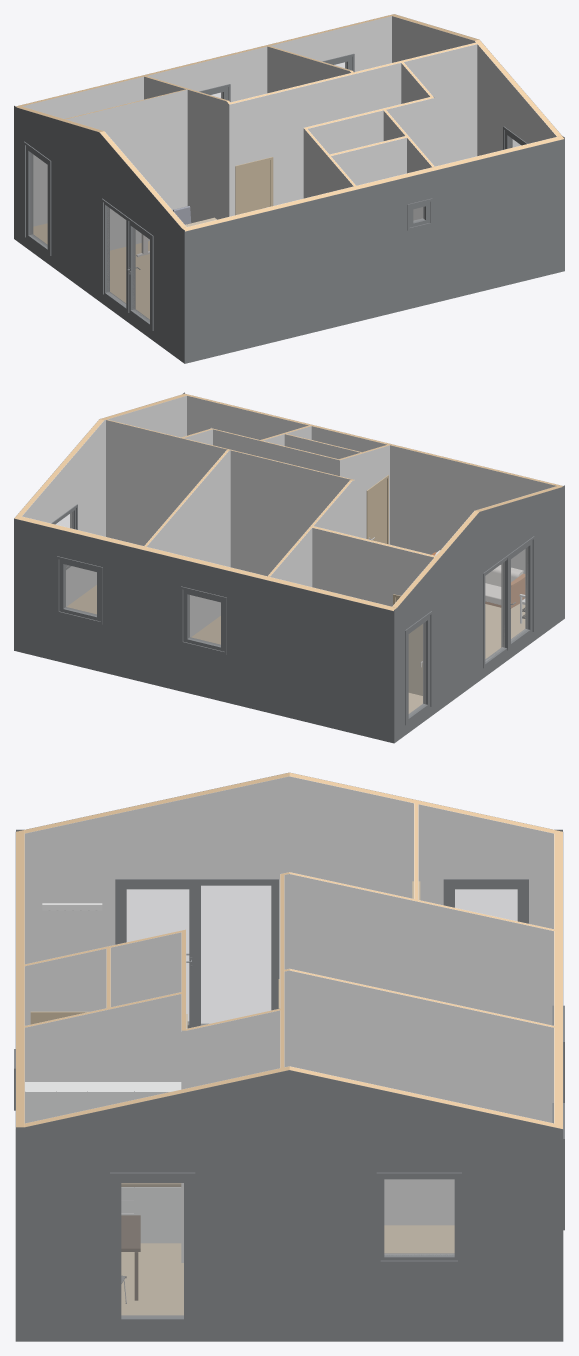
The picture shows the model from 3 angles, top to bottom: view 1: azimuth 30°, elevation 25°; view 2: azimuth 150°, elevation 25°; view 3: azimuth 270°, elevation 25°; orthographic projection. The views are drawn at different scales.
Parts seen in each view (by area): view 1: IfcWall/Part:2905459, IfcWall/Part:2905450, IfcWall/Part:2948545, IfcWall/Part:2905452, IfcWall/Part:2905421, IfcWall/Part:2905455, IfcWall/Part:2948544, IfcWall/Part:2936510, IfcWindow/Langai (Akrusta):1000x2100x120:2818375, IfcWindow/Langai (Akrusta):1000x2100x120 (dešininis):2947001, IfcDoor/Durys išorinės:1000x2100x120 (dešininės):2906808, IfcWall/Part:2927378 (+15 smaller); view 2: IfcWall/Part:2905453, IfcWall/Part:2905450, IfcWall/Part:2905458, IfcWall/Part:2948542, IfcWall/Part:2948543, IfcWall/Part:2905455, IfcWall/Part:2905420, IfcWall/Part:2914524, IfcWindow/Langai (Akrusta):1000x1200x120 (dešininis):2947919, IfcWindow/Langai (Akrusta):1000x1200x120 (dešininis):2947860, IfcWindow/Langai (Akrusta):1000x2100x120 (dešininis):2947001, IfcDoor/Durys išorinės:1000x2100x120 (dešininės):2906808 (+14 smaller); view 3: IfcWall/Part:2905456, IfcWall/Part:2905449, IfcWall/Part:2914523, IfcWall/Part:2910315, IfcWindow/Langai (Akrusta):1000x2100x120 (dešininis):2948181, IfcWindow/Langai (Akrusta):1000x2100x120:2818375, IfcWall/Part:2927374, IfcWindow/Langai (Akrusta):1000x1200x120:2907726, IfcSlab/Part:2905462, IfcWall/Part:2948548, IfcDoor/Durys išorinės:1000x2100x120 (dešininės):2906808, IfcWall/Part:2948555 (+12 smaller).
Boxes of the visible parts, x1,y1,x2,y2 form: IfcWall/Part:2905459: [184, 139, 564, 363]; IfcWall/Part:2905450: [14, 105, 184, 363]; IfcWall/Part:2948545: [229, 63, 401, 216]; IfcWall/Part:2905452: [22, 16, 391, 226]; IfcWall/Part:2905421: [66, 89, 187, 250]; IfcWall/Part:2905455: [392, 16, 556, 155]; IfcWall/Part:2948544: [404, 44, 477, 166]; IfcWall/Part:2936510: [187, 90, 229, 223]; IfcWindow/Langai (Akrusta):1000x2100x120:2818375: [101, 198, 129, 312]; IfcWindow/Langai (Akrusta):1000x2100x120 (dešininis):2947001: [24, 141, 51, 255]; IfcDoor/Durys išorinės:1000x2100x120 (dešininės):2906808: [126, 217, 153, 330]; IfcWall/Part:2927378: [331, 137, 406, 185]; IfcWall/Part:2905453: [14, 518, 394, 743]; IfcWall/Part:2905450: [394, 485, 564, 742]; IfcWall/Part:2905458: [187, 395, 556, 573]; IfcWall/Part:2948542: [106, 420, 227, 545]; IfcWall/Part:2948543: [230, 450, 350, 576]; IfcWall/Part:2905455: [22, 395, 186, 606]; IfcWall/Part:2905420: [312, 527, 433, 606]; IfcWall/Part:2914524: [146, 450, 230, 637]; IfcWindow/Langai (Akrusta):1000x1200x120 (dešininis):2947919: [56, 556, 102, 624]; IfcWindow/Langai (Akrusta):1000x1200x120 (dešininis):2947860: [180, 586, 226, 654]; IfcWindow/Langai (Akrusta):1000x2100x120 (dešininis):2947001: [405, 611, 432, 725]; IfcDoor/Durys išorinės:1000x2100x120 (dešininės):2906808: [501, 536, 534, 650]; IfcWall/Part:2905456: [16, 1070, 563, 1341]; IfcWall/Part:2905449: [25, 776, 553, 978]; IfcWall/Part:2914523: [284, 970, 553, 1225]; IfcWall/Part:2910315: [284, 874, 553, 1025]; IfcWindow/Langai (Akrusta):1000x2100x120 (dešininis):2948181: [110, 1172, 195, 1325]; IfcWindow/Langai (Akrusta):1000x2100x120:2818375: [193, 879, 278, 1026]; IfcWall/Part:2927374: [25, 994, 181, 1081]; IfcWindow/Langai (Akrusta):1000x1200x120:2907726: [376, 1172, 461, 1264]; IfcSlab/Part:2905462: [121, 1225, 454, 1315]; IfcWall/Part:2948548: [181, 1010, 279, 1262]; IfcDoor/Durys išorinės:1000x2100x120 (dešininės):2906808: [115, 879, 200, 1028]; IfcWall/Part:2948555: [25, 948, 106, 1025].
Bounding box in the file's own units: 909 × 383 × 704.
